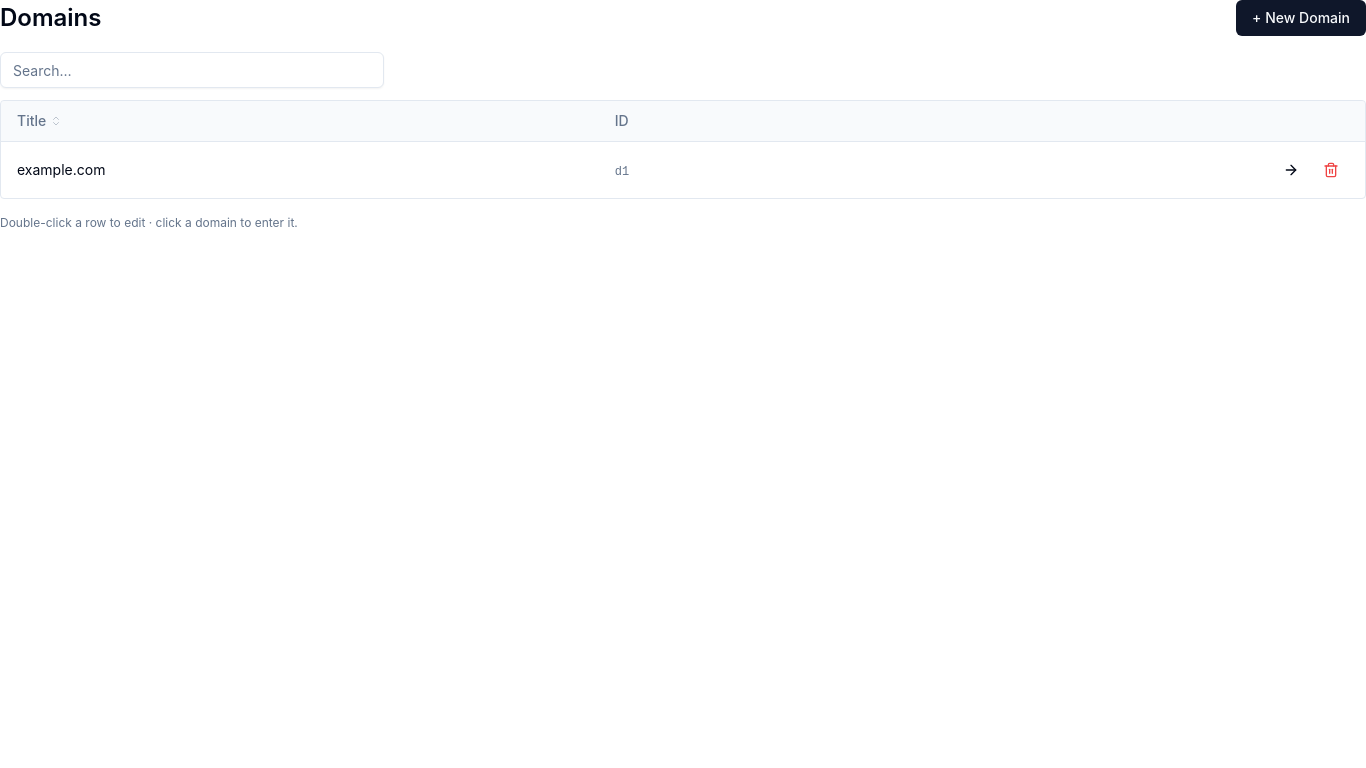
Test: DomainsPage › shows delete dialog when trash button is clicked
Click the button named "Delete domain": (1331, 170) left=1313, top=152, right=1349, bottom=188
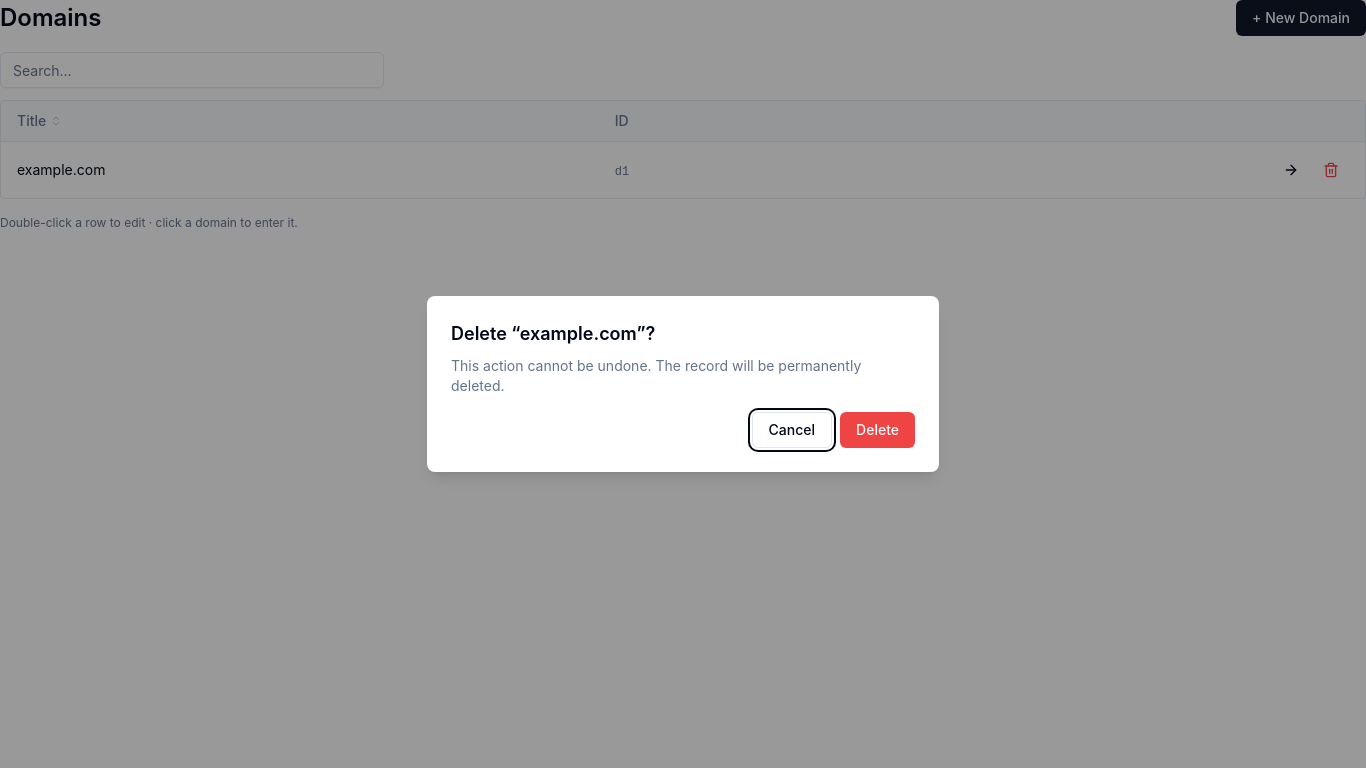
Expected: the text "cannot be undone" is shown, left=451, top=357, right=861, bottom=394
